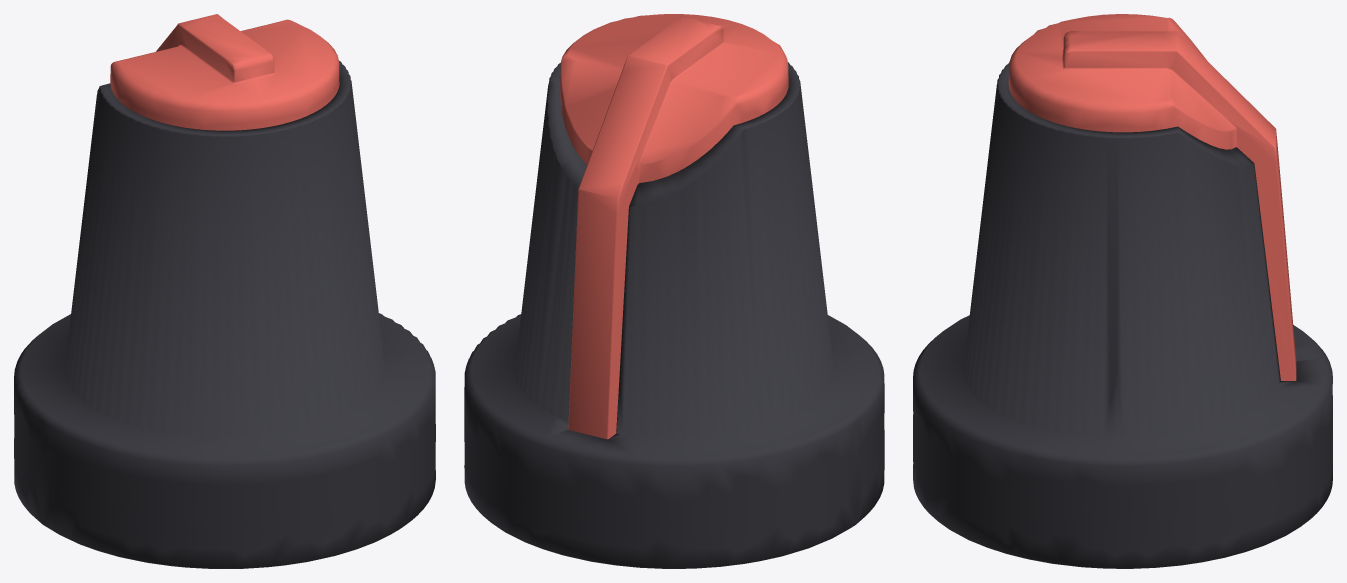
Rendered from knob_knobv3.glb.
3 views of the same model, side by side, from view 1: azimuth 30°, elevation 25°; view 2: azimuth 150°, elevation 25°; view 3: azimuth 270°, elevation 25° (orthographic).
Parts seen in each view (by area): view 1: knobv3; view 2: knobv3; view 3: knobv3.
Part boxes in pixels (bbox=[...]): knobv3: bbox=[14, 14, 435, 568]; knobv3: bbox=[464, 14, 884, 568]; knobv3: bbox=[913, 14, 1332, 568].
Bounding box in the file's own units: 15.25 × 17.65 × 15.25.
